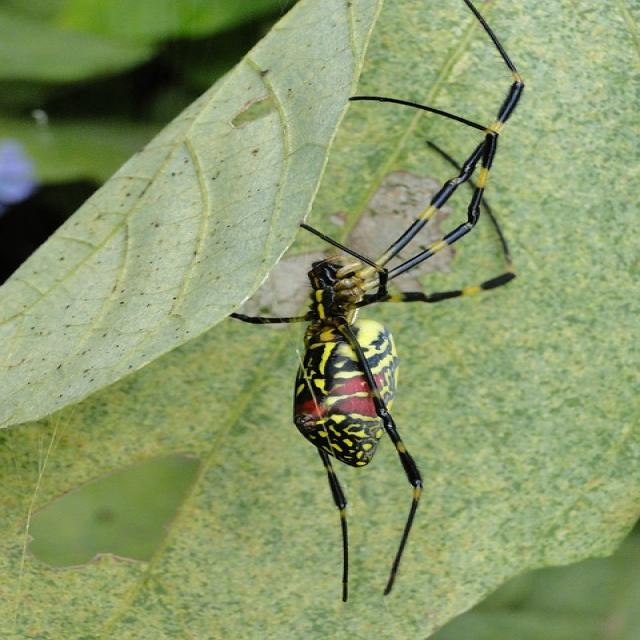spyder: (235, 0, 523, 593)
